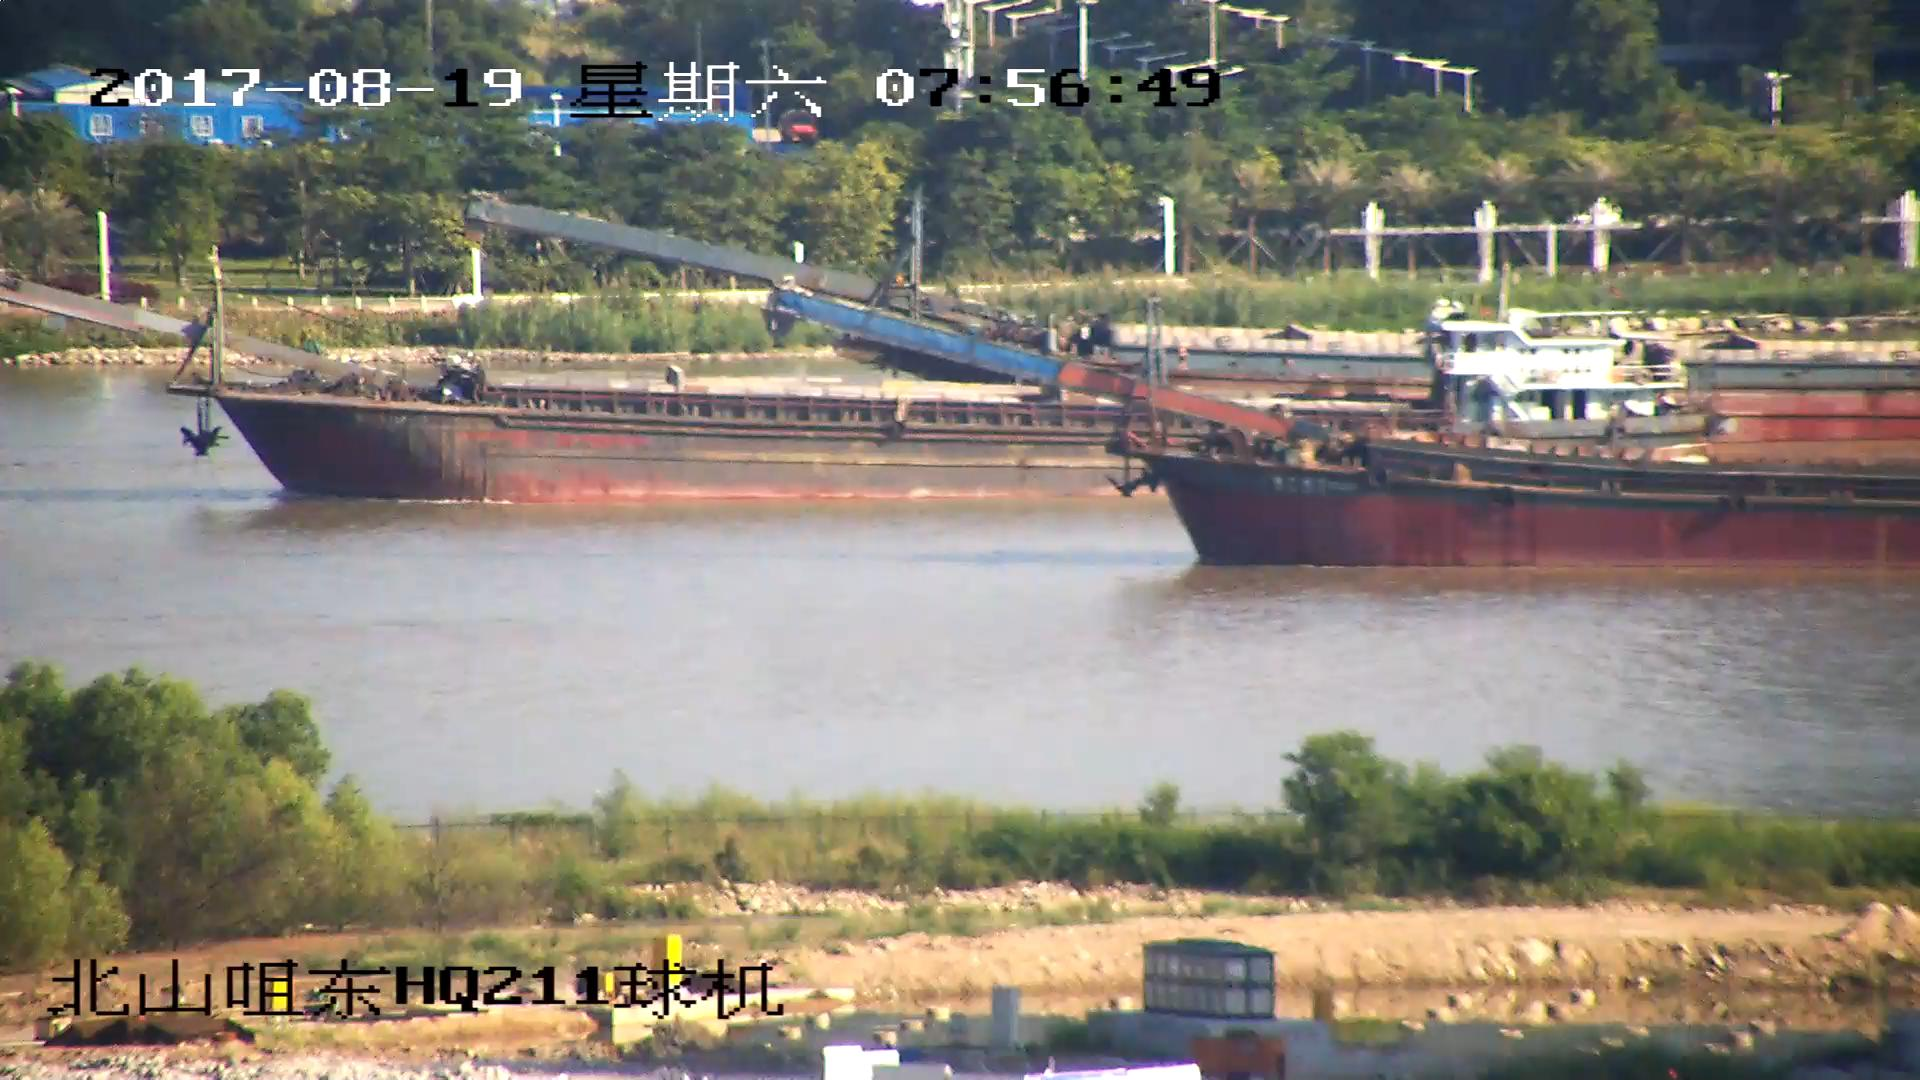bulk cargo carrier: (773, 298, 1920, 568), (478, 193, 1920, 392), (1, 257, 1109, 509)
